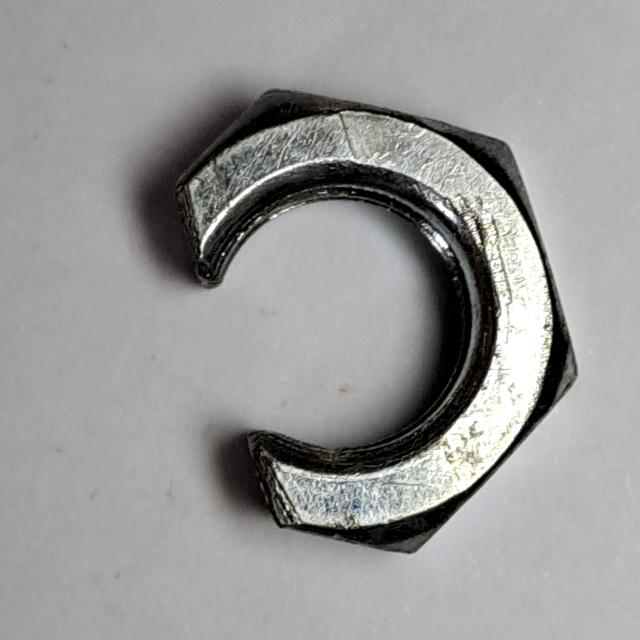Fracture: (162, 74, 592, 578)
